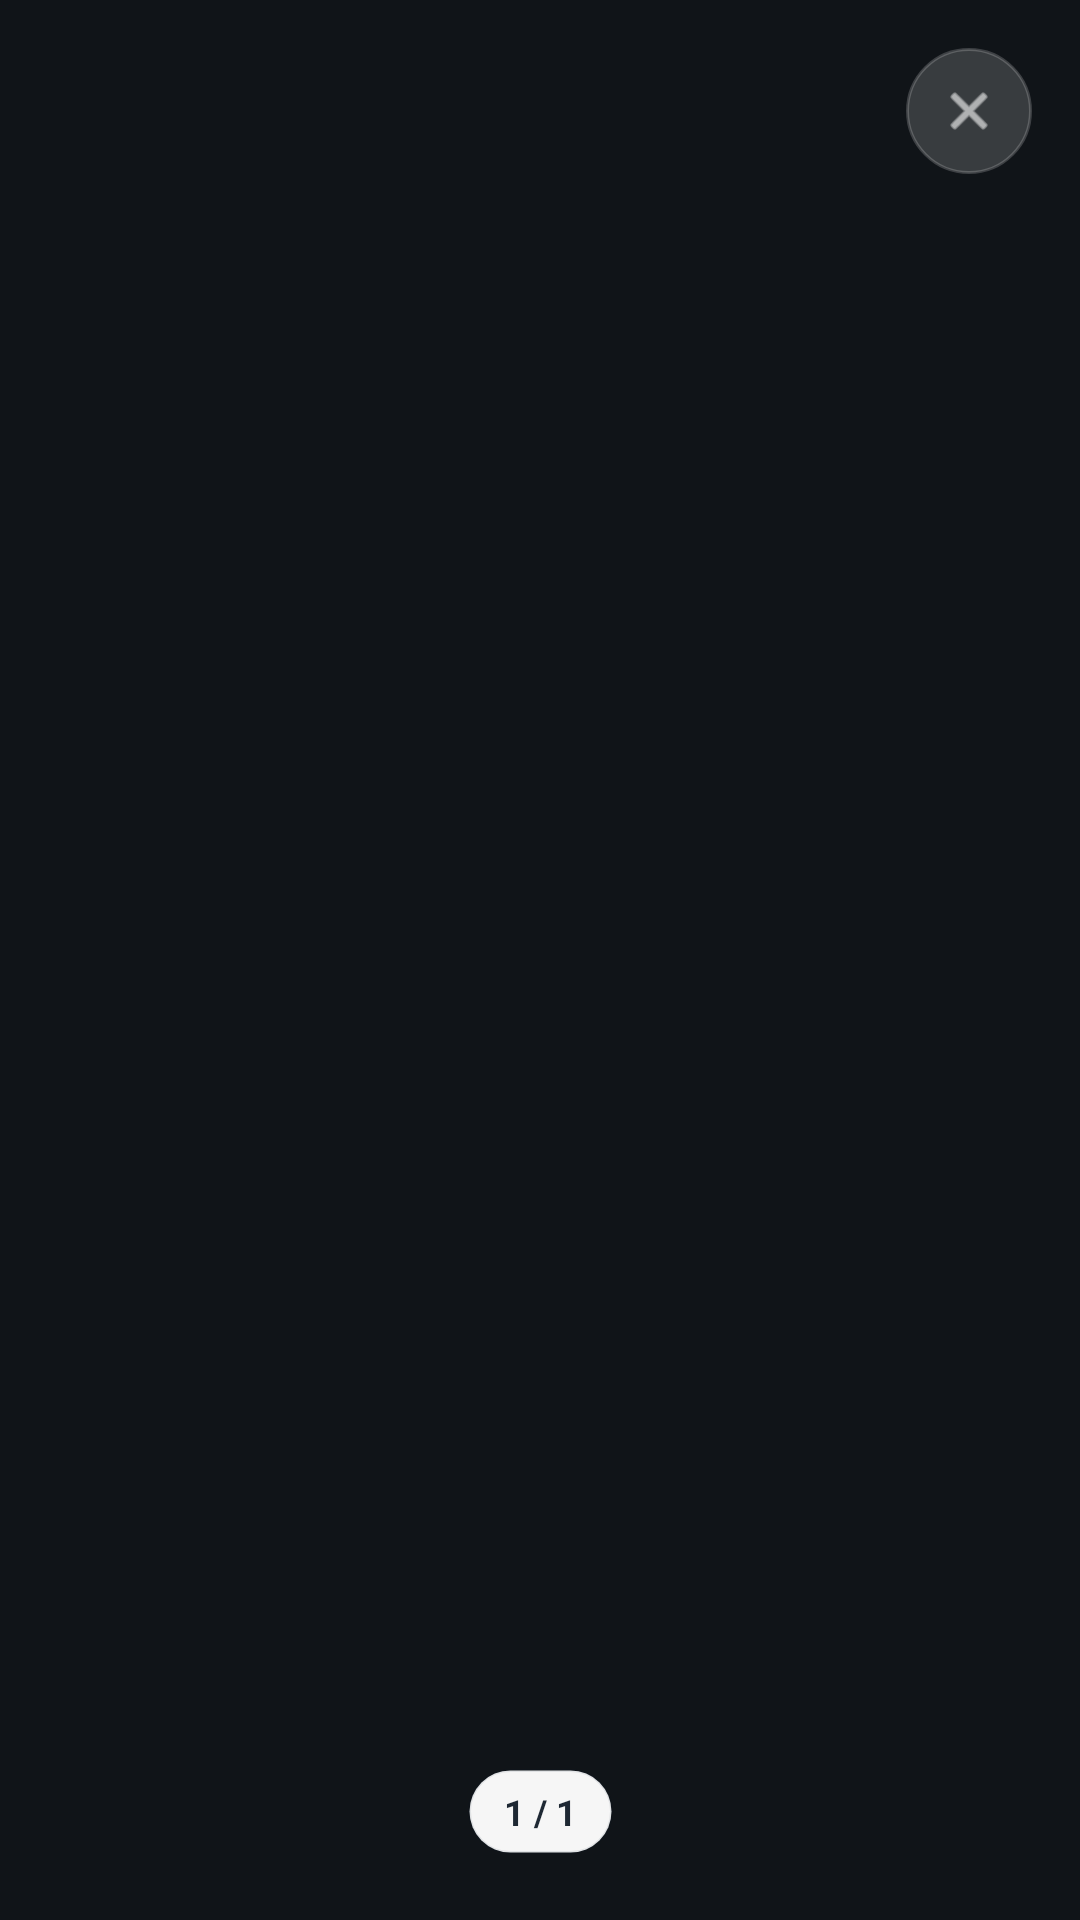

Point at icon controls on the screen. Image size 1080px x 1920px, points as [x,y].
Close: [969,111]
